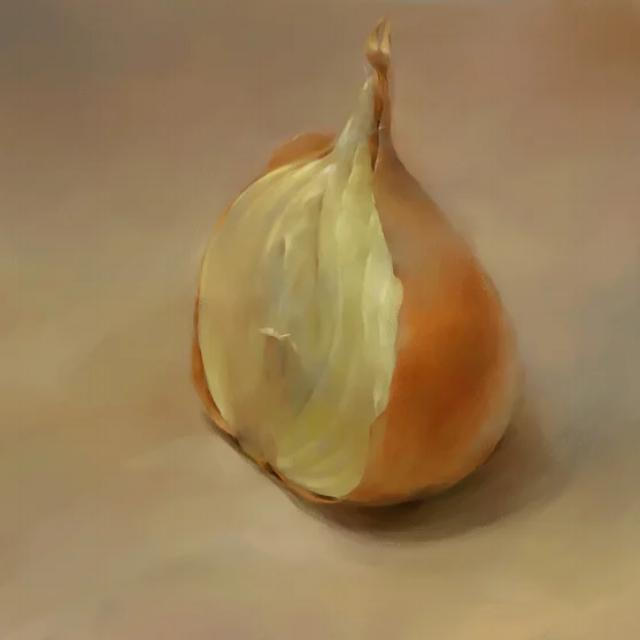onion: (187, 30, 528, 522)
